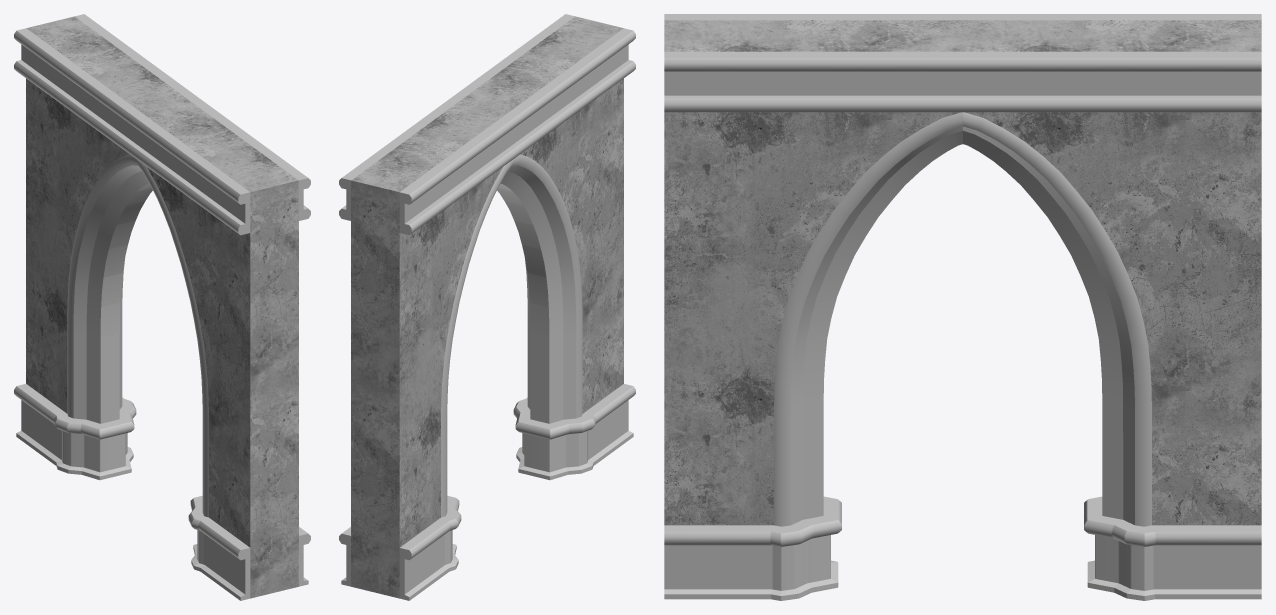
The model's file is SM_Wallkit_Gate_01a.fbx.
The picture shows the model from 3 angles, left to right: view 1: azimuth 30°, elevation 25°; view 2: azimuth 150°, elevation 25°; view 3: azimuth 270°, elevation 25°; orthographic projection. The views are drawn at different scales.
Visible parts, largest first — view 1: SM_Wallkit_Gate_01a_LOD0; view 2: SM_Wallkit_Gate_01a_LOD0; view 3: SM_Wallkit_Gate_01a_LOD0.
Boxes of the visible parts, x1,y1,x2,y2 form: SM_Wallkit_Gate_01a_LOD0: [14, 14, 310, 600]; SM_Wallkit_Gate_01a_LOD0: [339, 14, 635, 600]; SM_Wallkit_Gate_01a_LOD0: [664, 14, 1261, 600].
Size of the model in its own units: 161 by 800 by 800.
